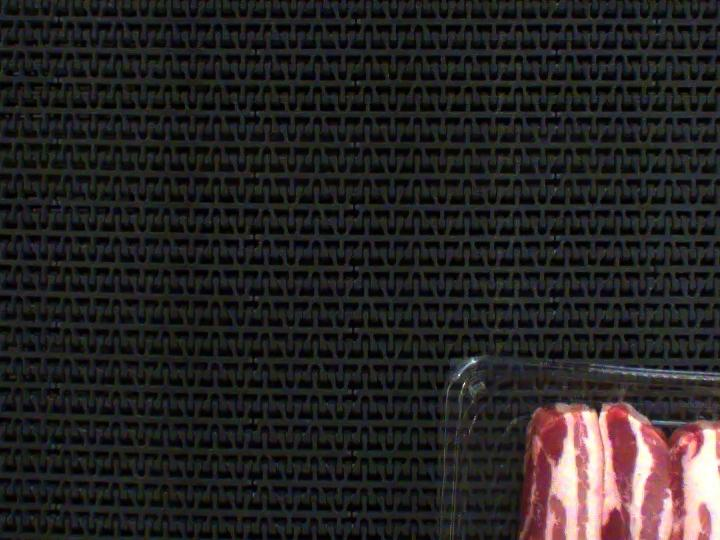packaging-error: (599, 376, 632, 410)
